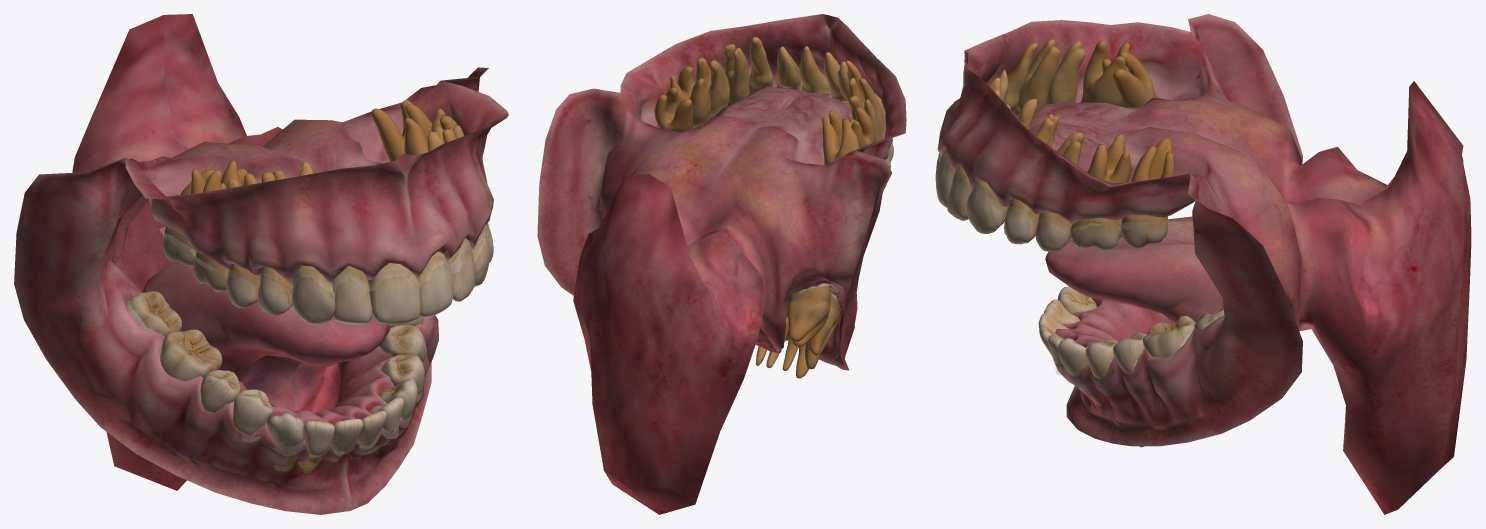
The model's file is mieng_phat_am_L.glb.
The picture shows the model from 3 angles, left to right: view 1: azimuth 30°, elevation 25°; view 2: azimuth 150°, elevation 25°; view 3: azimuth 270°, elevation 25°; orthographic projection. The views are drawn at different scales.
Parts seen in each view (by area): view 1: mouth_0, teeth_1, wet_2; view 2: mouth_0, teeth_1; view 3: mouth_0, teeth_1, wet_2.
Boxes of the visible parts, <box> form: mouth_0: <box>14,14,508,514</box>; teeth_1: <box>126,99,493,487</box>; wet_2: <box>126,221,489,457</box>; mouth_0: <box>537,14,906,514</box>; teeth_1: <box>654,37,893,378</box>; mouth_0: <box>937,14,1471,514</box>; teeth_1: <box>935,39,1224,447</box>; wet_2: <box>938,150,1217,384</box>.
Bounding box in the file's own units: 0.2433 × 0.2663 × 0.2801.
Materials: 3 (2 with a texture image).
